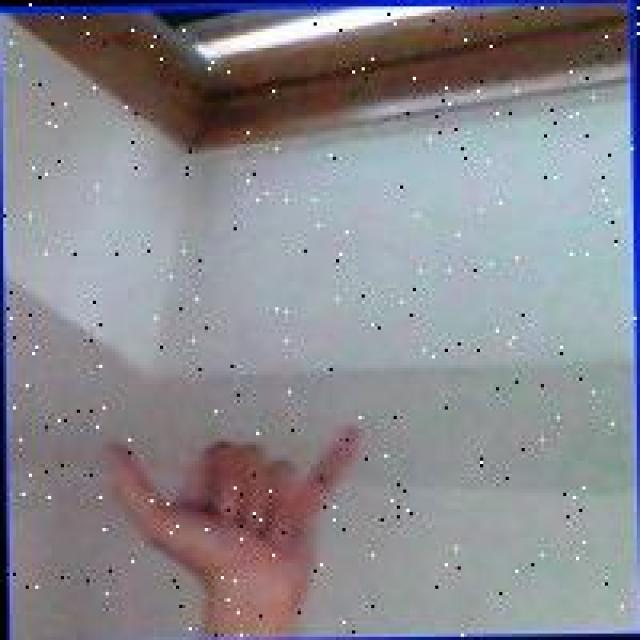Y: (91, 412, 376, 590)
